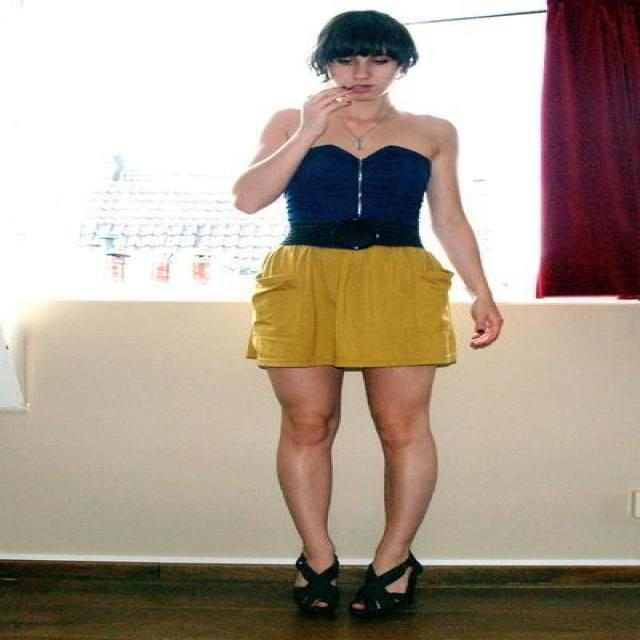shirt: (282, 145, 431, 225)
shoe: (293, 554, 414, 620)
skirt: (246, 245, 454, 370)
